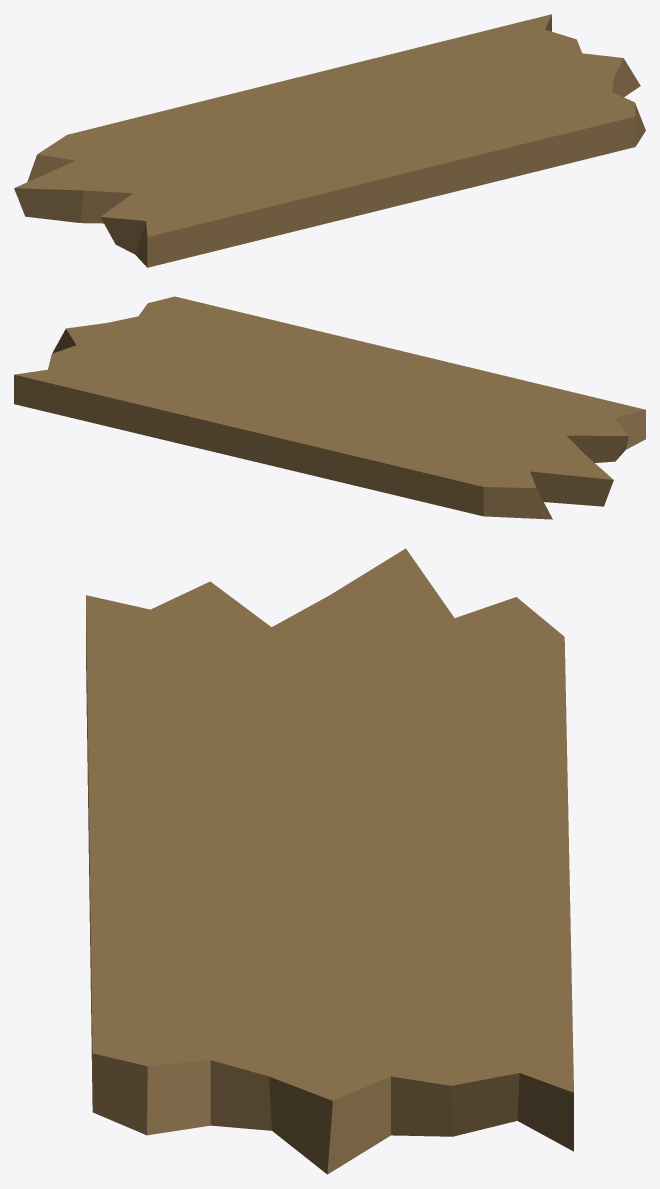
Rendered from brokenplank1.fbx.
3 renders of one model, top to bottom at view 1: azimuth 30°, elevation 25°; view 2: azimuth 150°, elevation 25°; view 3: azimuth 270°, elevation 25°, orthographic. The views are drawn at different scales.
Parts seen in each view (by area): view 1: Cube; view 2: Cube; view 3: Cube.
Part boxes in pixels (x1=…): Cube: x1=14, y1=14, x2=645, y2=267; Cube: x1=14, y1=296, x2=645, y2=519; Cube: x1=86, y1=548, x2=573, y2=1174.
Bounding box in the file's own units: 413 × 20 × 150.
